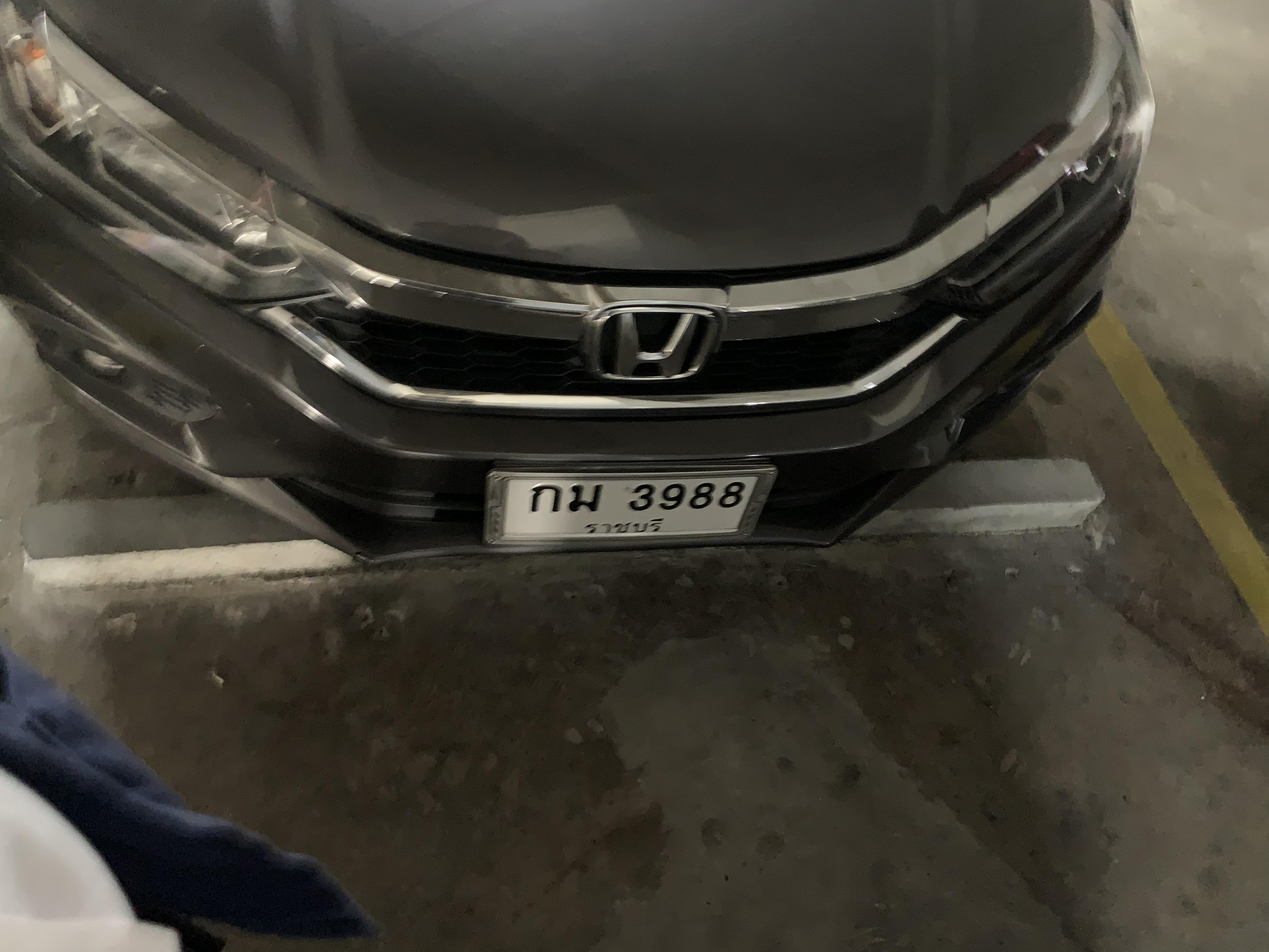license-plate: (487, 468, 763, 545)
